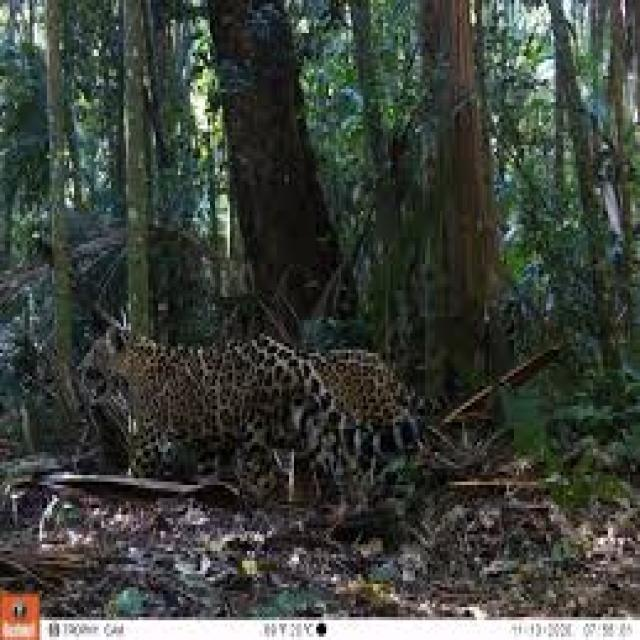Jaguar: (74, 323, 430, 498)
